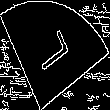L_SW: (33, 29, 77, 81)
